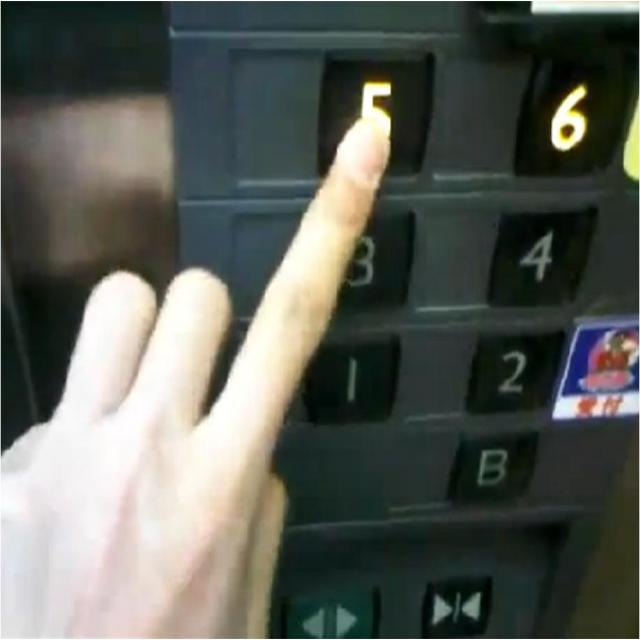1: (297, 331, 403, 426)
2: (460, 322, 568, 418)
3: (322, 206, 418, 316)
4: (478, 201, 600, 312)
5: (309, 43, 438, 180)
6: (509, 34, 639, 177)
B: (441, 430, 542, 508)
close: (415, 569, 498, 639)
open: (276, 575, 384, 636)
